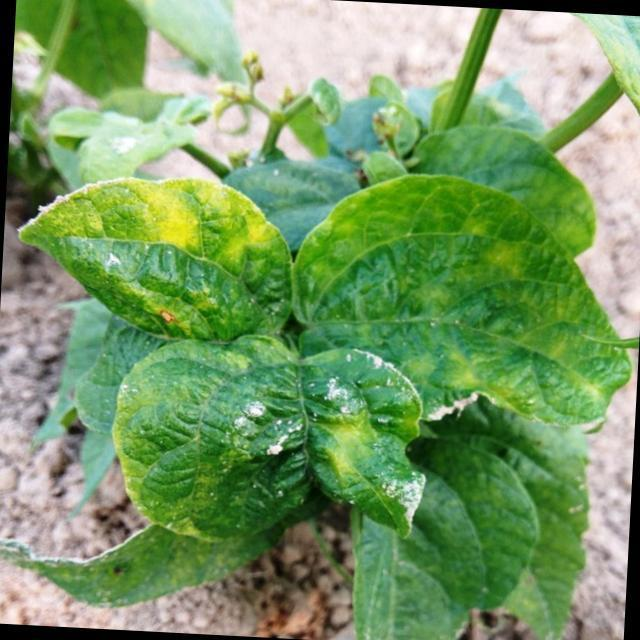Mosaic Virus: (313, 198, 640, 402), (20, 176, 288, 329), (110, 332, 306, 538), (283, 356, 434, 516)
